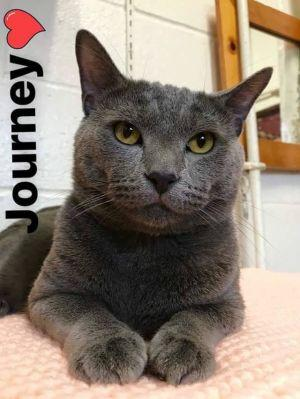rblue: (59, 29, 275, 246)
